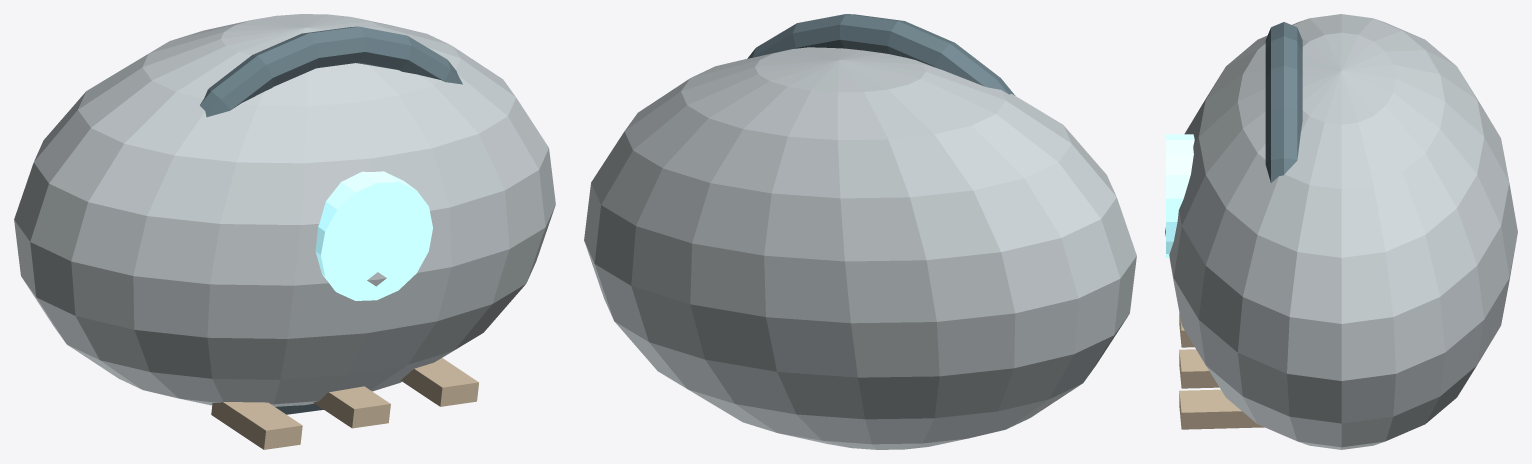
File: alloy_high.gltf
3 renders of one model, left to right at view 1: azimuth 30°, elevation 25°; view 2: azimuth 150°, elevation 25°; view 3: azimuth 270°, elevation 25°, orthographic. The views are drawn at different scales.
Parts seen in each view (by area): view 1: alloy_high; view 2: alloy_high; view 3: alloy_high.
Boxes of the visible parts, x1,y1,x2,y2 form: alloy_high: [14, 14, 555, 449]; alloy_high: [584, 14, 1136, 449]; alloy_high: [1165, 14, 1517, 449].
Size of the model in its own units: 1.27 by 0.9114 by 0.8.
